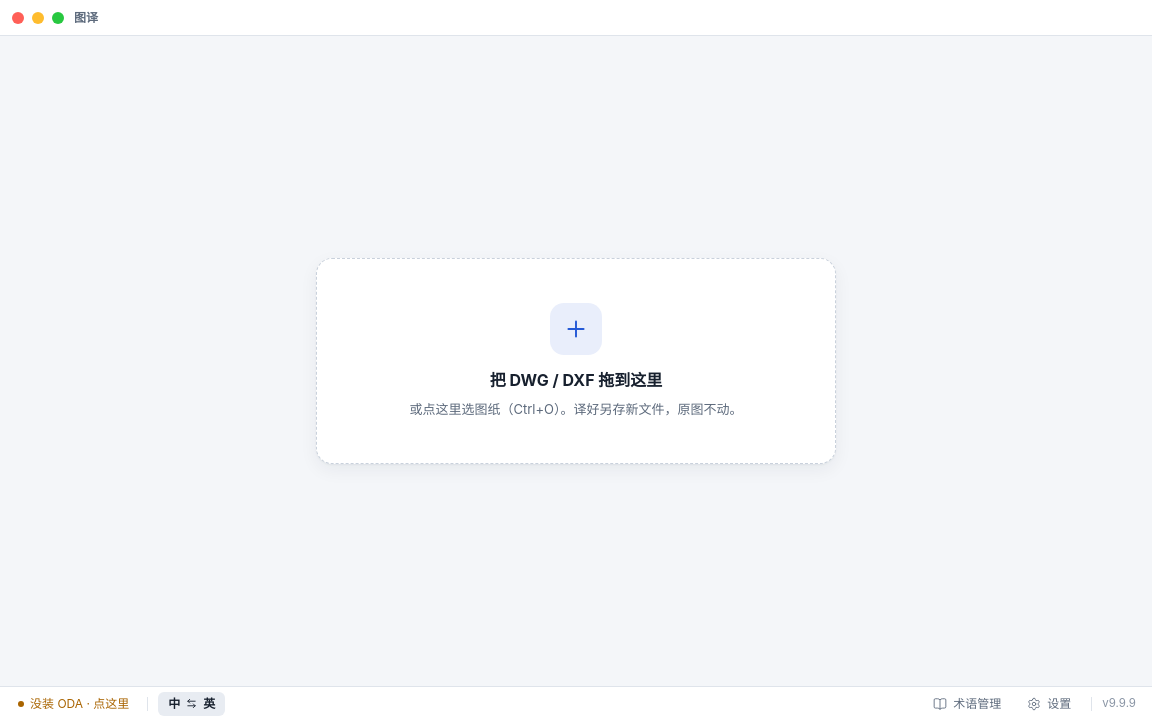
it: work view › offers ODA help when it is missing
This screenshot has width=1152, height=720.
Step 1. Click the button "没装 ODA · 点这里" → (74, 704), box [10, 692, 137, 714]
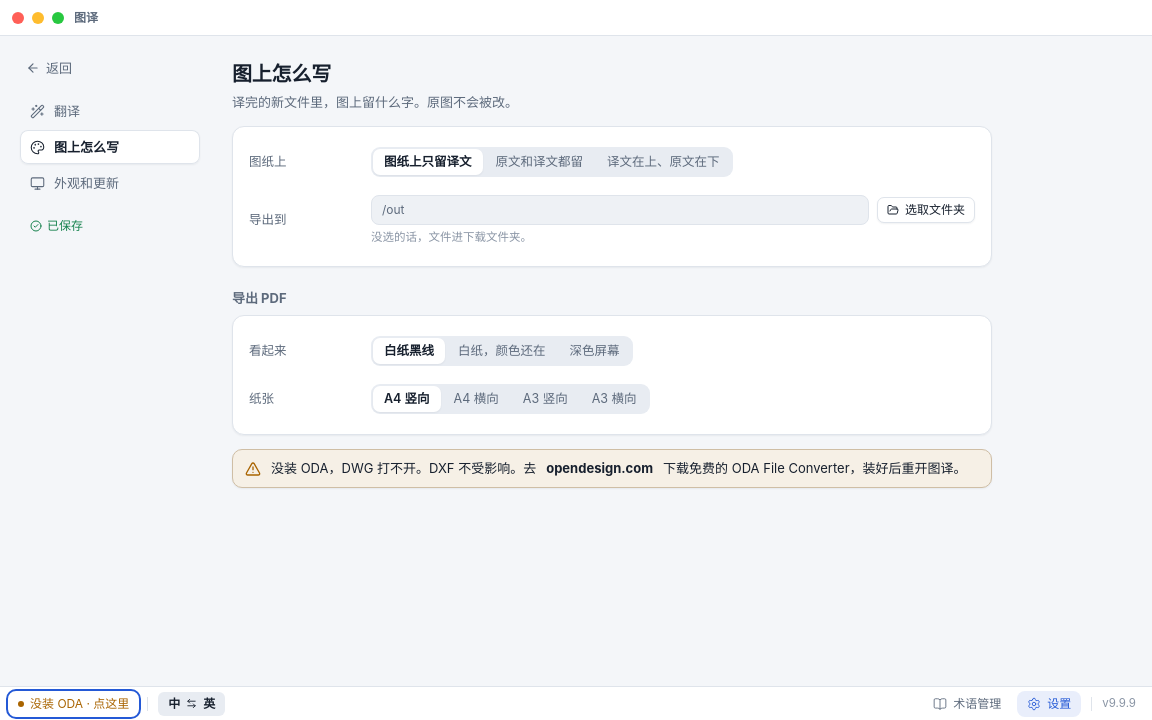
Expected: the text "没装 ODA，DWG 打不开" is shown, [271, 460, 536, 476]
